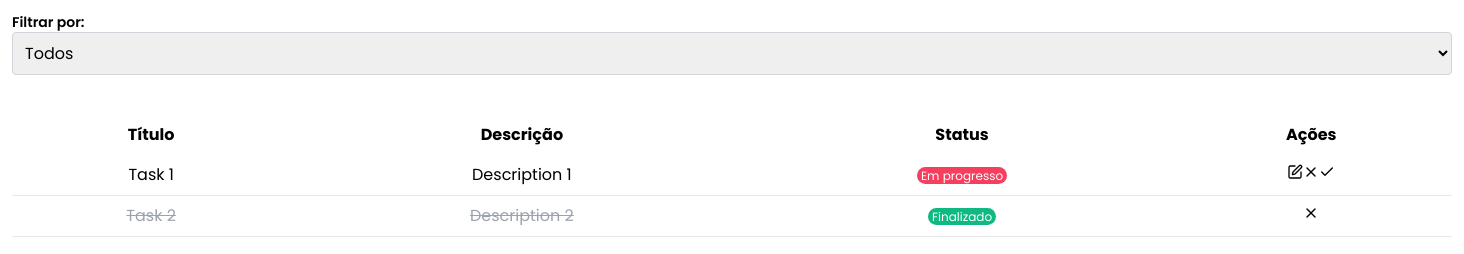
Test: TaskList component › should render tasks based on filter
Expected: the text "Task 1" is shown, left=12, top=155, right=290, bottom=196
Expected: the text "Task 2" is shown, left=126, top=204, right=176, bottom=227
Step 1. Select "Em progresso" in the dropdown → (732, 54), box left=12, top=32, right=1452, bottom=75
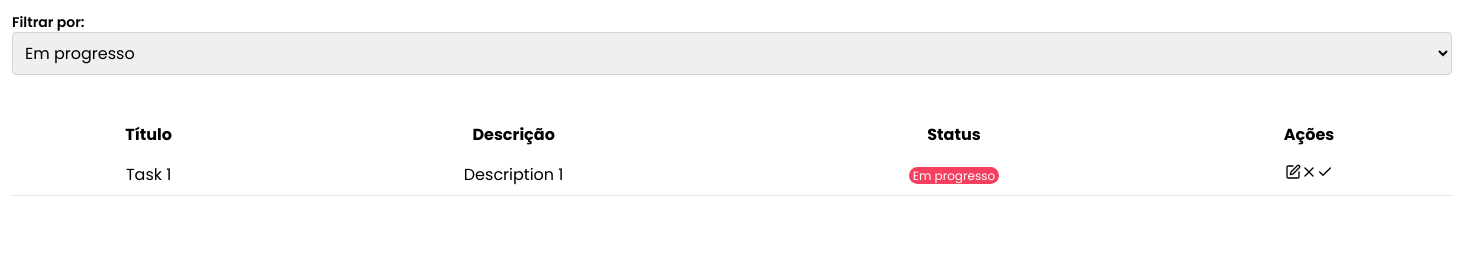
Expected: the text "Task 1" is shown, left=12, top=155, right=285, bottom=196
Expected: the text "Task 2" is gone
Step 2. Select "Finalizado" in the dropdown → (732, 54), box left=12, top=32, right=1452, bottom=75
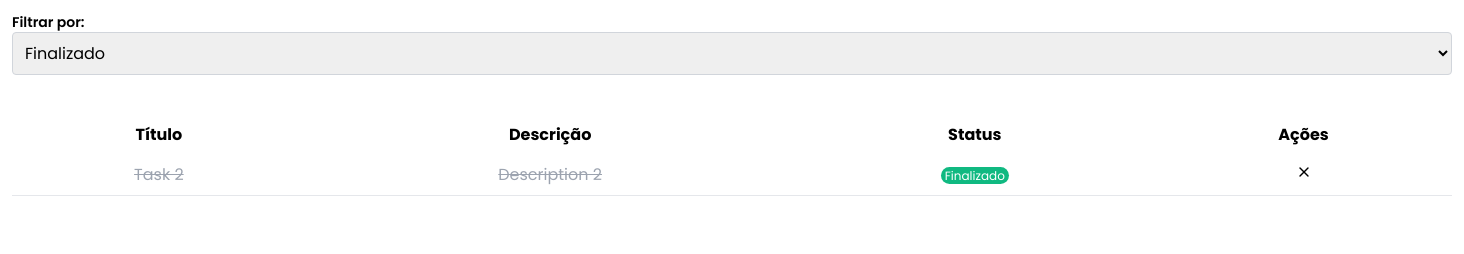
Expected: the text "Task 1" is gone
Expected: the text "Task 2" is shown, left=134, top=163, right=184, bottom=186
